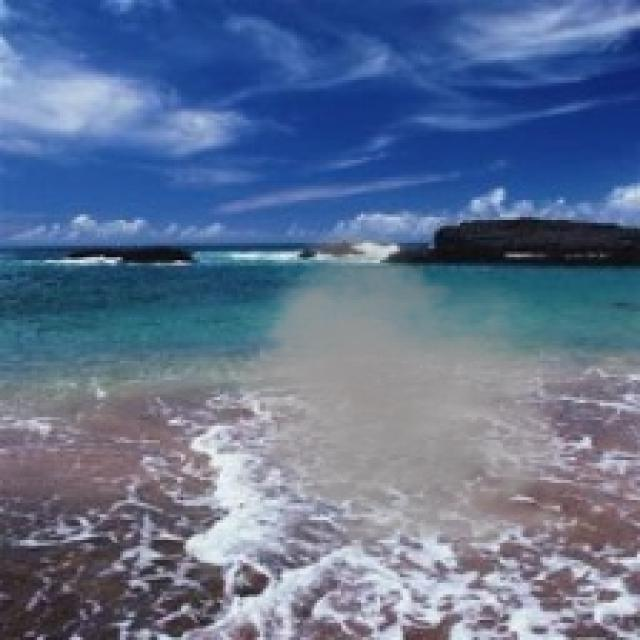smoke: (217, 220, 597, 569)
